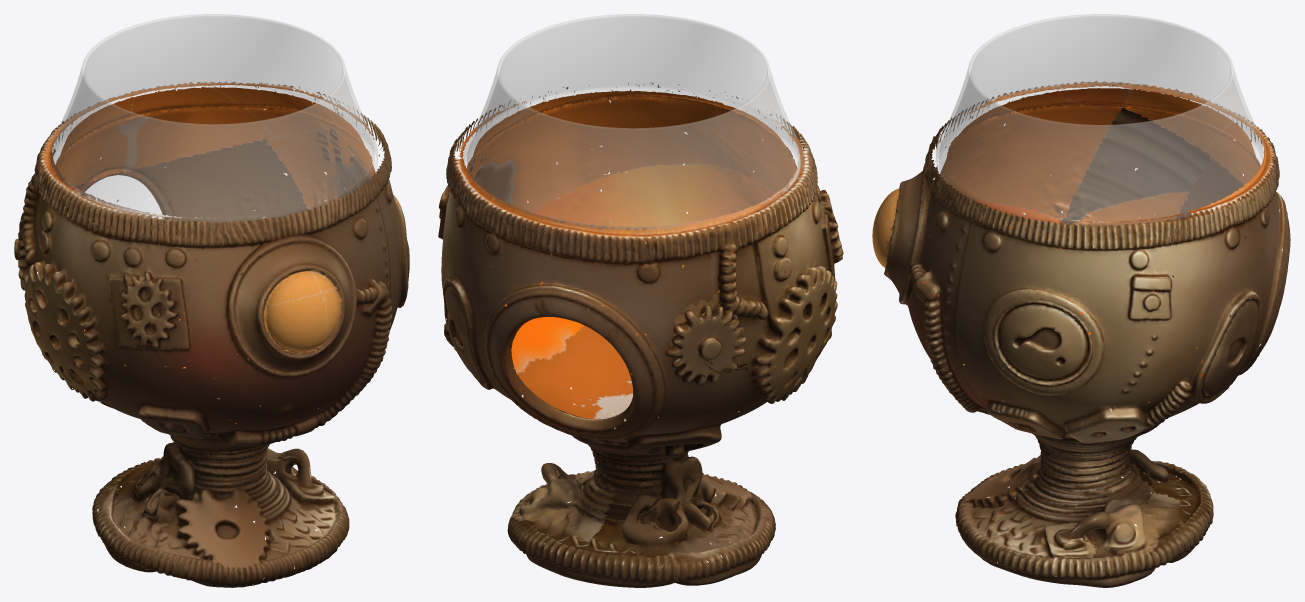
File: bokal-fixed.glb
3 renders of one model, left to right at view 1: azimuth 30°, elevation 25°; view 2: azimuth 150°, elevation 25°; view 3: azimuth 270°, elevation 25°, orthographic. The views are drawn at different scales.
Parts seen in each view (by area): view 1: bokal; view 2: bokal; view 3: bokal.
Boxes of the visible parts, <box> form: bokal: <box>14,14,409,587</box>; bokal: <box>438,14,843,587</box>; bokal: <box>872,14,1290,587</box>.
Size of the model in its own units: 1.31 by 1.72 by 1.39.
Materials: 2 (1 with a texture image).
